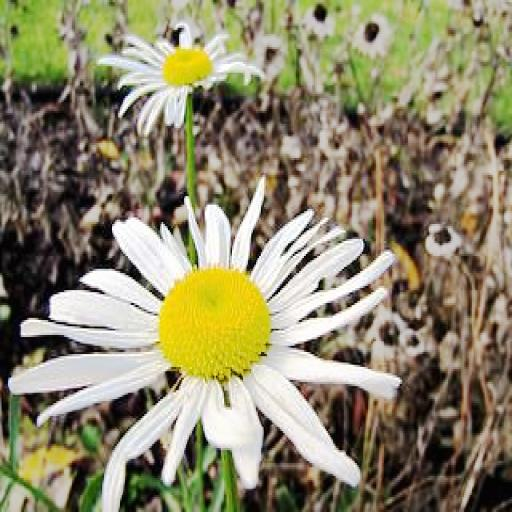daisy: (29, 203, 392, 495), (112, 24, 251, 106)
